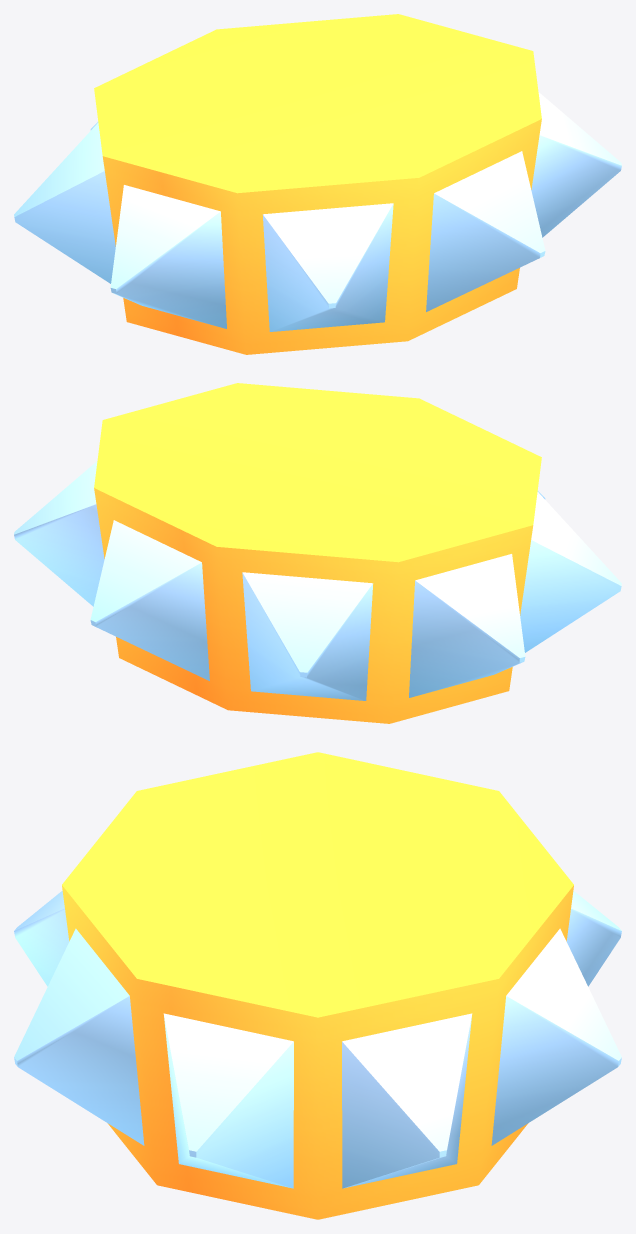
The model's file is gold_and_steel_guard_022.glb.
The picture shows the model from 3 angles, top to bottom: view 1: azimuth 30°, elevation 25°; view 2: azimuth 150°, elevation 25°; view 3: azimuth 270°, elevation 25°; orthographic projection. The views are drawn at different scales.
Parts seen in each view (by area): view 1: gold_and_steel_guard_022; view 2: gold_and_steel_guard_022; view 3: gold_and_steel_guard_022.
Part boxes in pixels (x1=…): gold_and_steel_guard_022: x1=14, y1=14, x2=621, y2=354; gold_and_steel_guard_022: x1=14, y1=383, x2=621, y2=723; gold_and_steel_guard_022: x1=14, y1=752, x2=621, y2=1219.
Bounding box in the file's own units: 6.23 × 2 × 5.08.
1 material, 1 textured.
